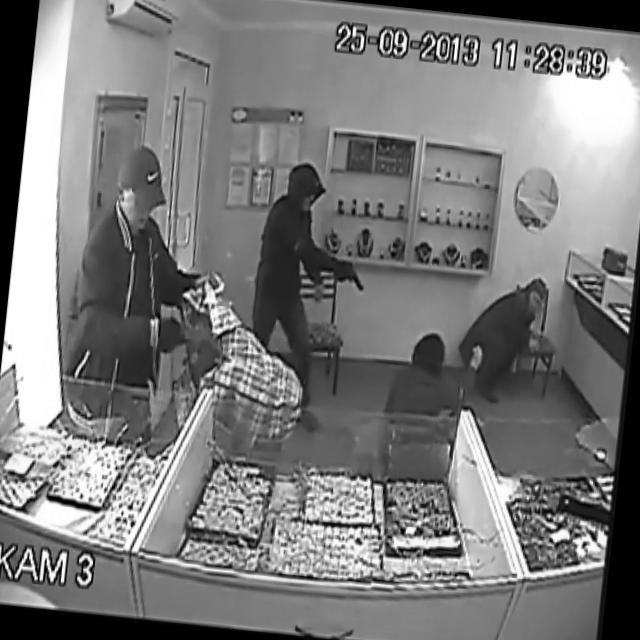gun: (326, 240, 366, 300)
person: (64, 147, 195, 346), (478, 268, 553, 376), (388, 324, 446, 414)
person with a gun: (238, 150, 385, 388)
